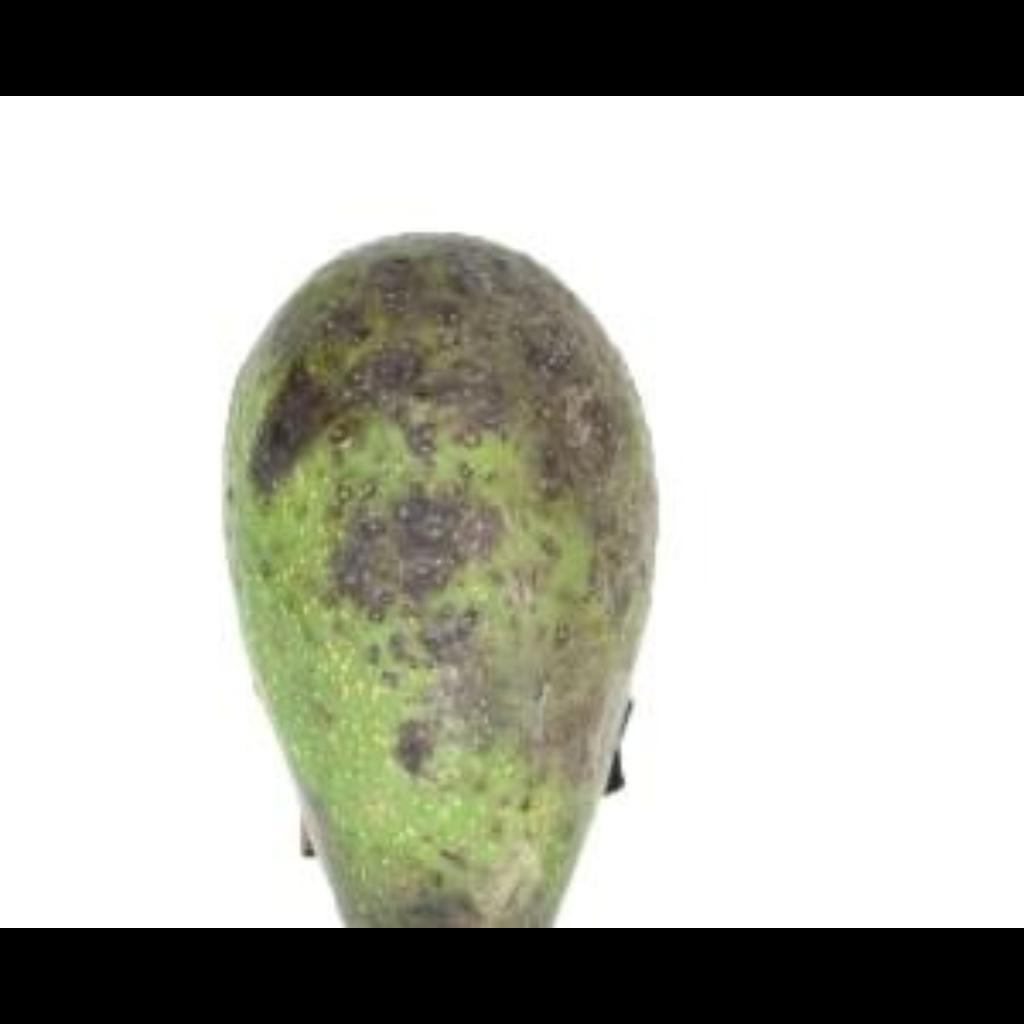antracnosis_fruto: (201, 237, 655, 790)
